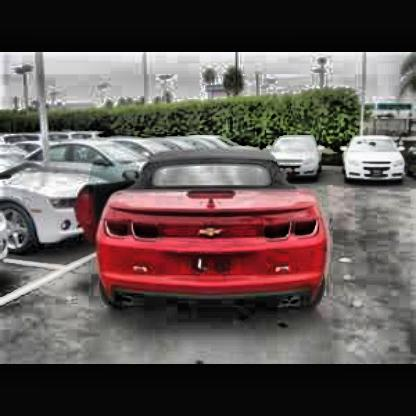Chevrolet Camaro Convertible 2012: (96, 151, 331, 311)
